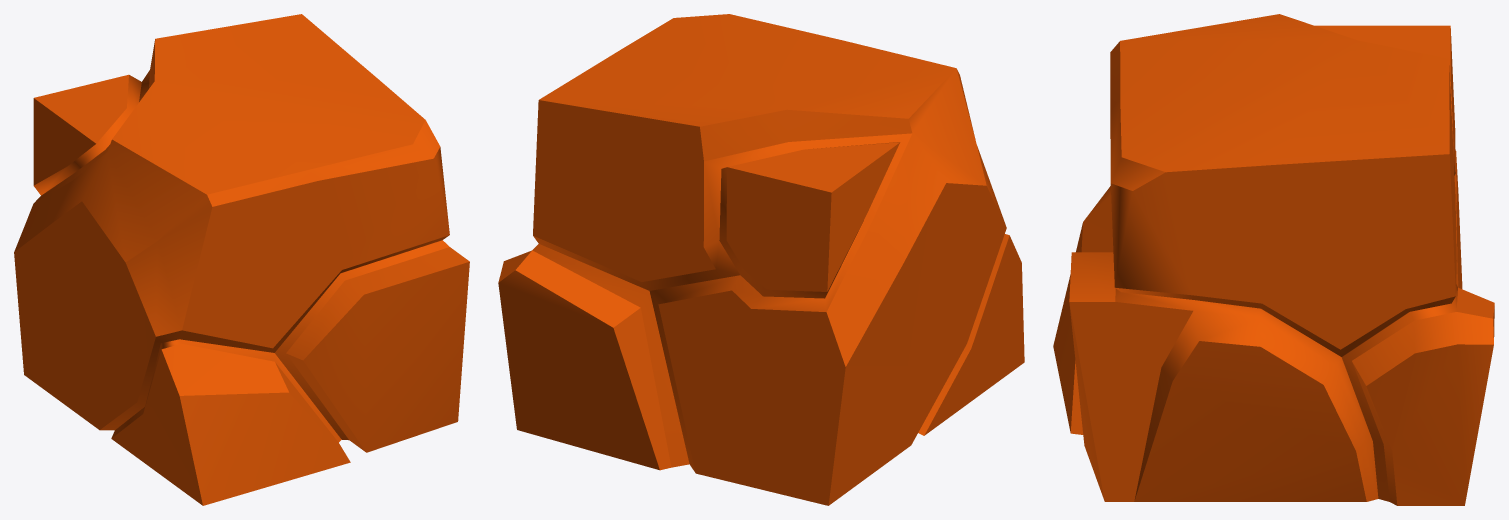
File: amber.fbx
The picture shows the model from 3 angles, left to right: view 1: azimuth 30°, elevation 25°; view 2: azimuth 150°, elevation 25°; view 3: azimuth 270°, elevation 25°; orthographic projection. The views are drawn at different scales.
Parts seen in each view (by area): view 1: tile_fill.002; view 2: tile_fill.002; view 3: tile_fill.002.
Part boxes in pixels (bbox=[...]): tile_fill.002: bbox=[14, 14, 469, 505]; tile_fill.002: bbox=[498, 14, 1024, 505]; tile_fill.002: bbox=[1053, 14, 1494, 505].
Size of the model in its own units: 240 by 219 by 246.
